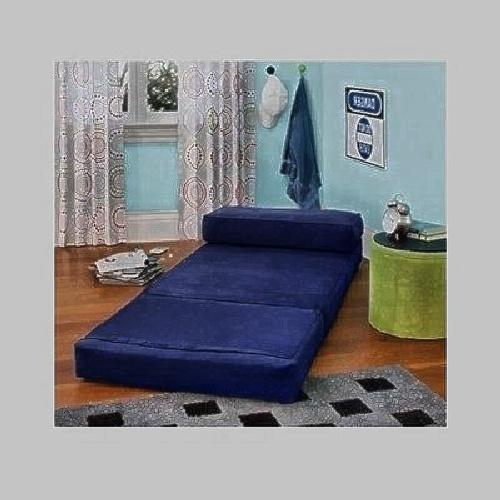sofa: (130, 203, 351, 393)
